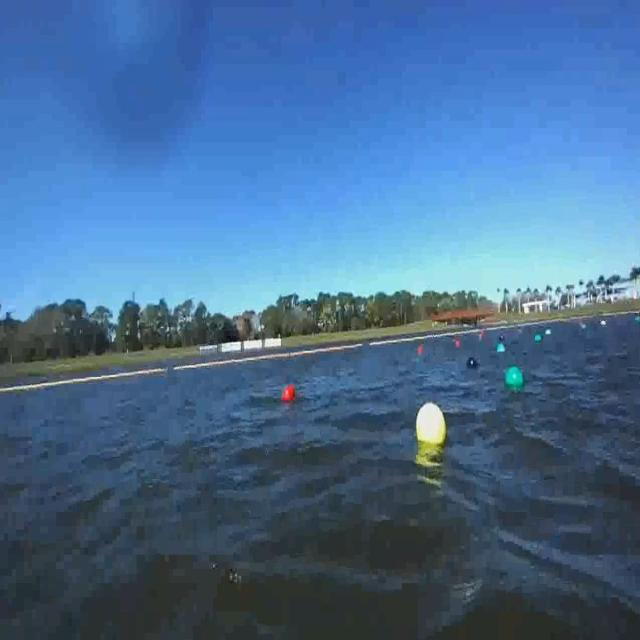black-buoy: (466, 357, 478, 368)
green-buoy: (504, 366, 522, 390), (535, 335, 542, 344)
red-buoy: (283, 384, 296, 402)
yellow-buoy: (415, 404, 446, 447)
